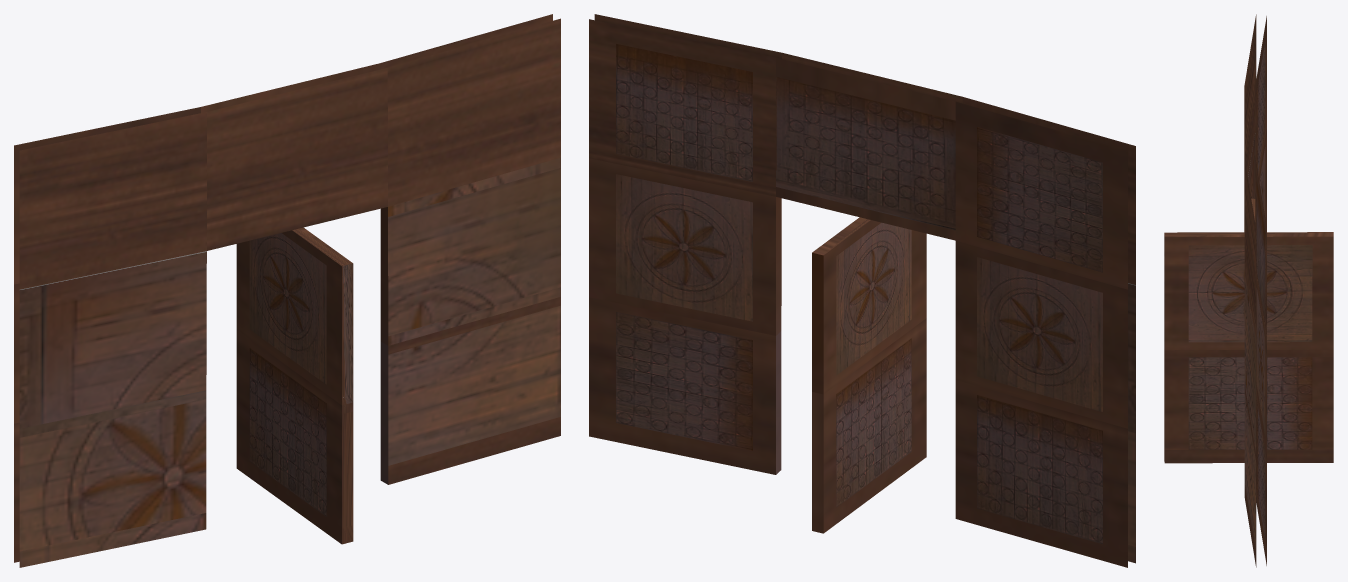
Rendered from pintugede.fbx.
3 views of the same model, side by side, from view 1: azimuth 30°, elevation 25°; view 2: azimuth 150°, elevation 25°; view 3: azimuth 270°, elevation 25° (orthographic). The views are drawn at different scales.
Visible parts, largest first — view 1: pintuutamagede.001, pintuutamagede; view 2: pintuutamagede.001, pintuutamagede; view 3: pintuutamagede, pintuutamagede.001.
Part boxes in pixels (x1=…): pintuutamagede.001: x1=14, y1=14, x2=560, y2=567; pintuutamagede: x1=236, y1=227, x2=353, y2=544; pintuutamagede.001: x1=589, y1=14, x2=1135, y2=567; pintuutamagede: x1=812, y1=217, x2=926, y2=533; pintuutamagede: x1=1164, y1=232, x2=1333, y2=463; pintuutamagede.001: x1=1244, y1=14, x2=1266, y2=567.
Bounding box in the file's own units: 1356 × 999 × 452.
